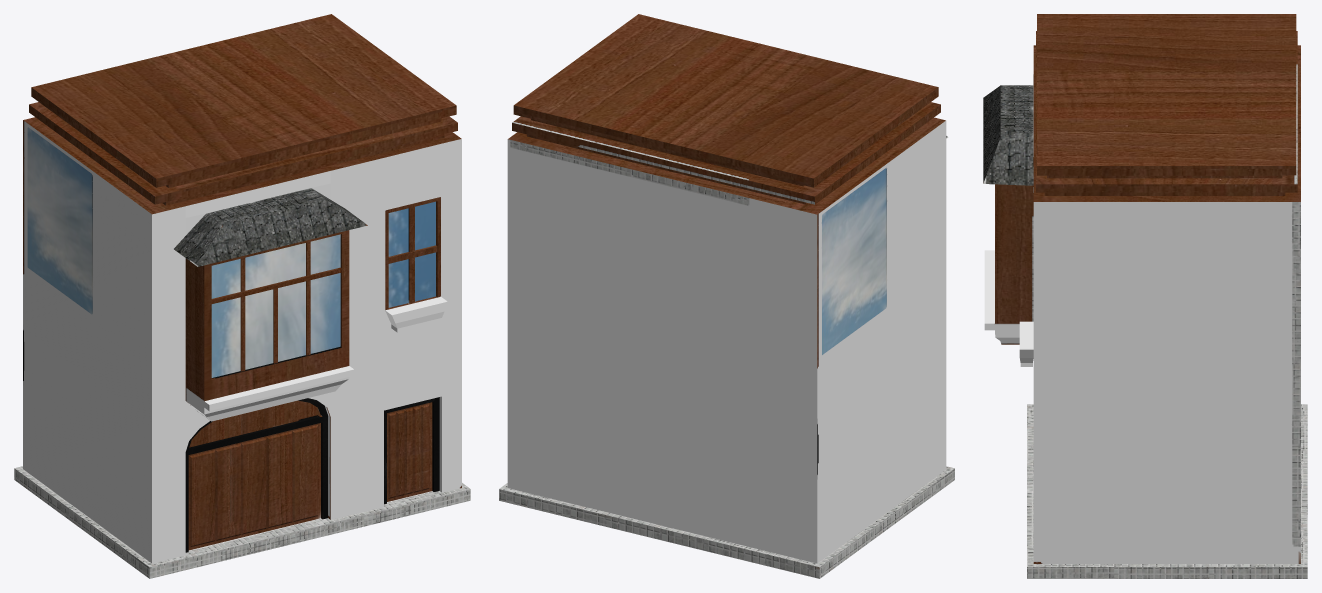
The model's file is Cafeteria.fbx.
The picture shows the model from 3 angles, left to right: view 1: azimuth 30°, elevation 25°; view 2: azimuth 150°, elevation 25°; view 3: azimuth 270°, elevation 25°; orthographic projection. The views are drawn at different scales.
Parts seen in each view (by area): view 1: building_008.001; view 2: building_008.001; view 3: building_008.001.
Boxes of the visible parts, bbox=[...] form: building_008.001: bbox=[14, 14, 470, 578]; building_008.001: bbox=[499, 14, 954, 578]; building_008.001: bbox=[983, 14, 1307, 578].
Bounding box in the file's own units: 575 × 674 × 485.
